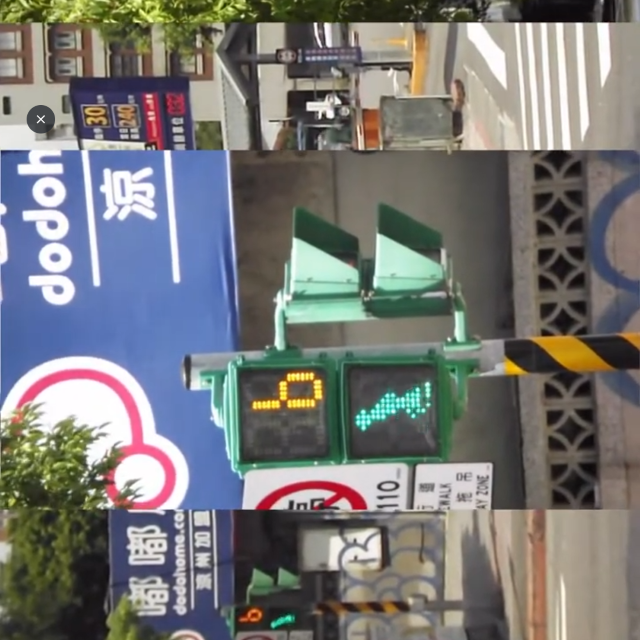green_light: (231, 363, 452, 461), (234, 608, 307, 630)
